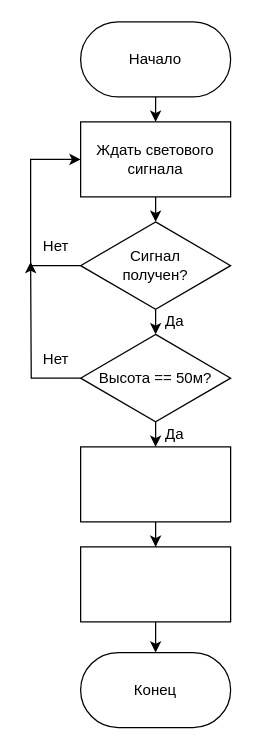
The diagram is 253 pixels wide and 750 high, and some of its shapes have lost their labels. Each missing label, with the box of its shape:
Выбрасывание пружиной обтекателя и парашюта: (79, 546, 231, 622)
Запуск моторчика: (79, 446, 231, 522)
